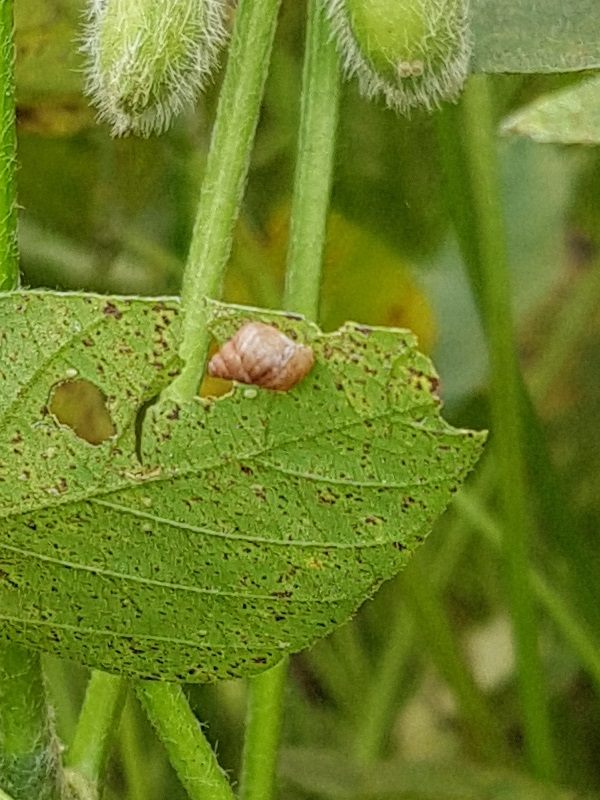Gastropoda: (189, 306, 326, 408)
